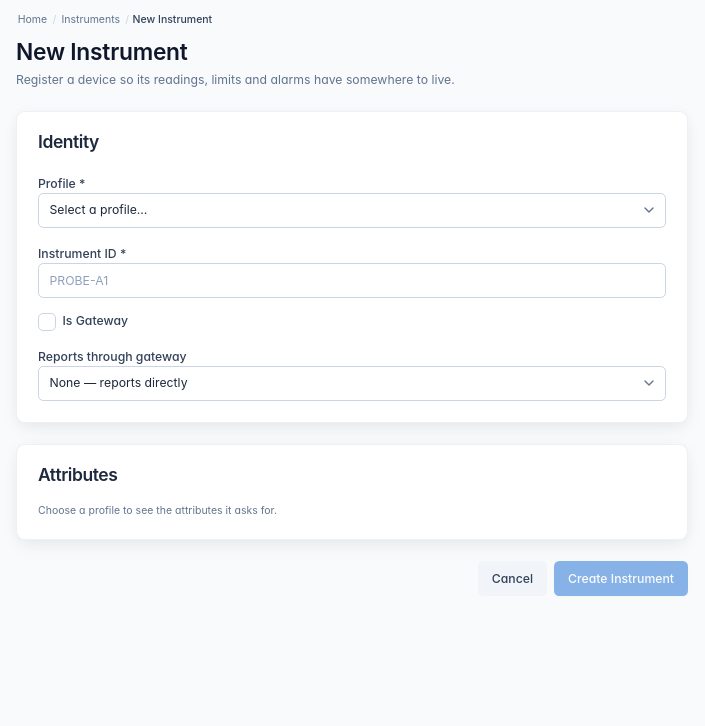
Test: InstrumentCreatePage — attributes come from the profile › renders one field per key of the CHOSEN profile, in order
Step 1. Select "Cleanroom-A" in the dropdown labelled "Profile *" → (352, 210), box [38, 193, 666, 228]
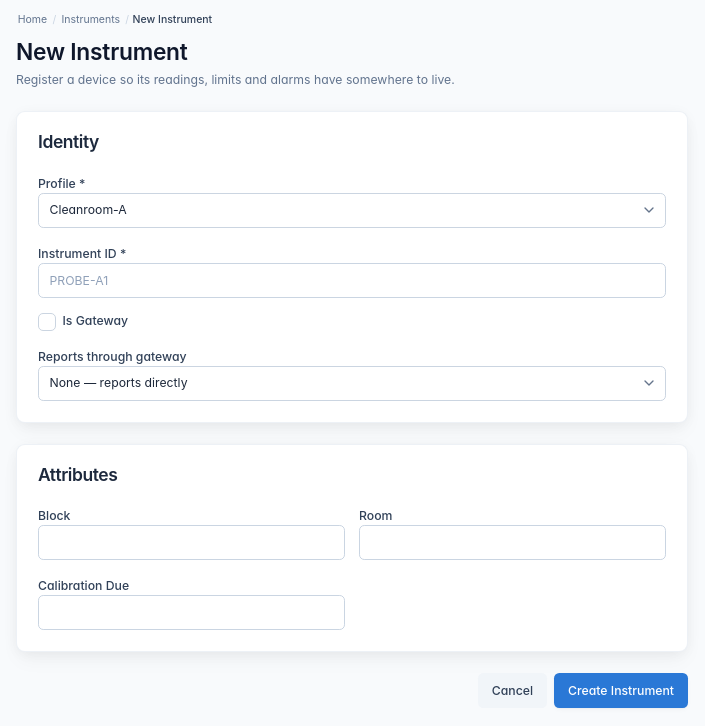
Expected: the field labelled "Room" is shown, [359, 525, 666, 560]
Expected: the field labelled "Calibration Due" is shown, [38, 595, 345, 630]
